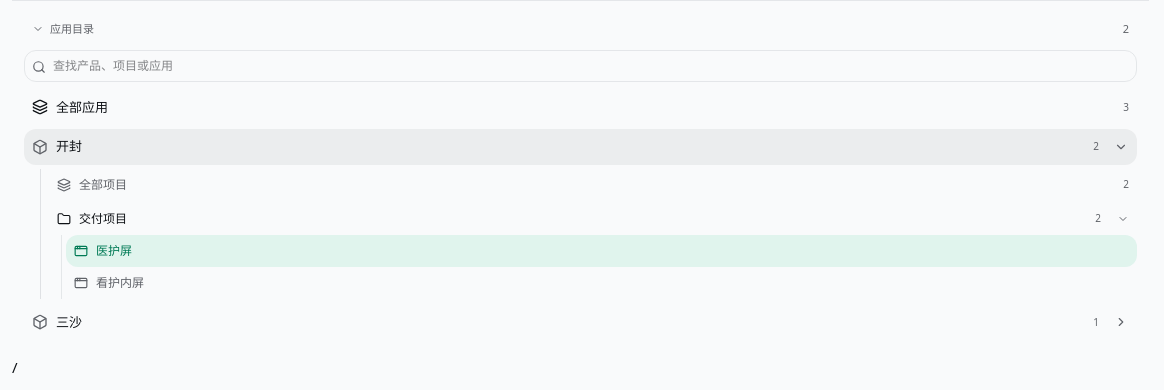
it: 展开箭头按需加载其他项目，项目名称返回筛选列表
Expected: the link "看护内屏" is shown, [74, 274, 144, 290]
Click the button named "展开 三沙": (1121, 322) [1107, 308, 1135, 336]
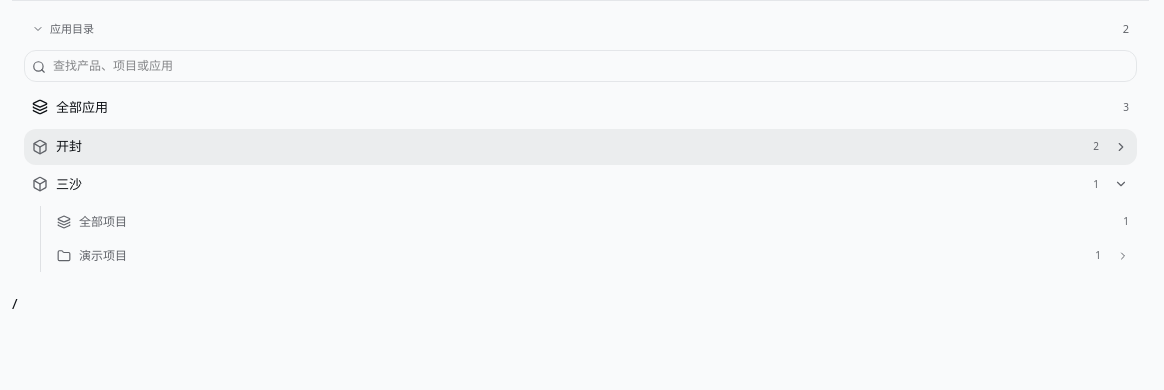
Click the button named "展开 演示项目": (1123, 256) [1109, 242, 1137, 270]
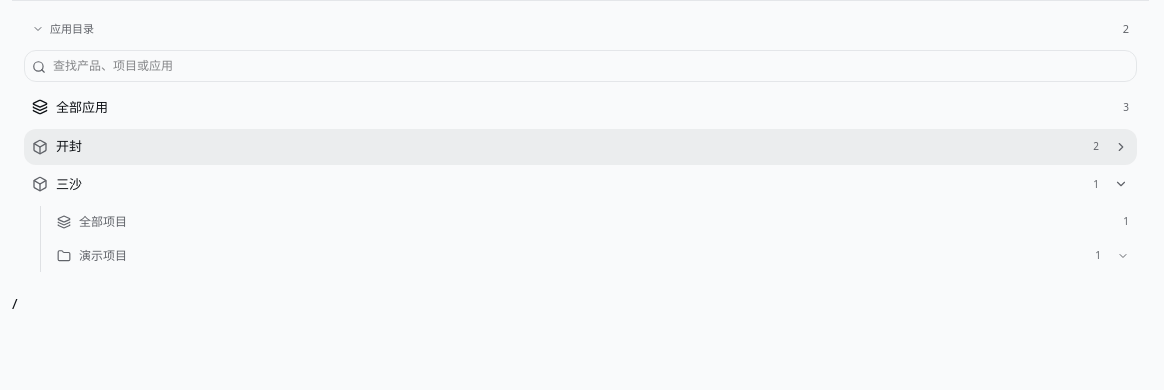
Click the button "演示项目 1": (103, 256) [49, 240, 1109, 272]
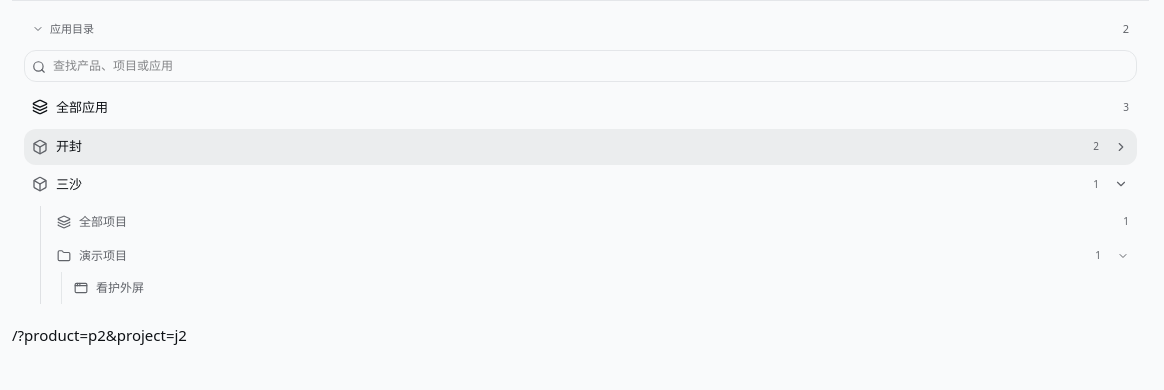
Expected: the text with test id "location" reads "/?product=p2&project=j2", [18, 325, 187, 345]
